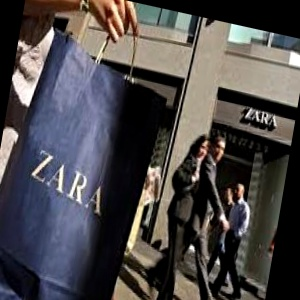zara: (62, 25, 300, 146), (92, 104, 148, 258)
